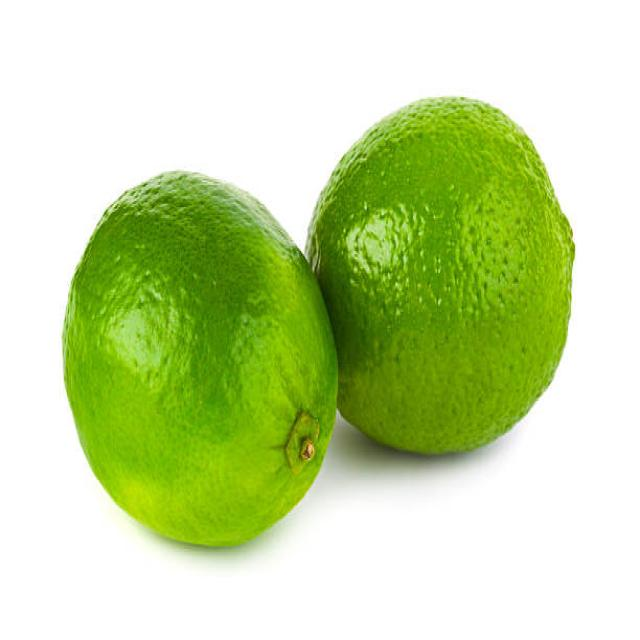Unripe: (61, 169, 341, 547), (305, 95, 576, 458)
